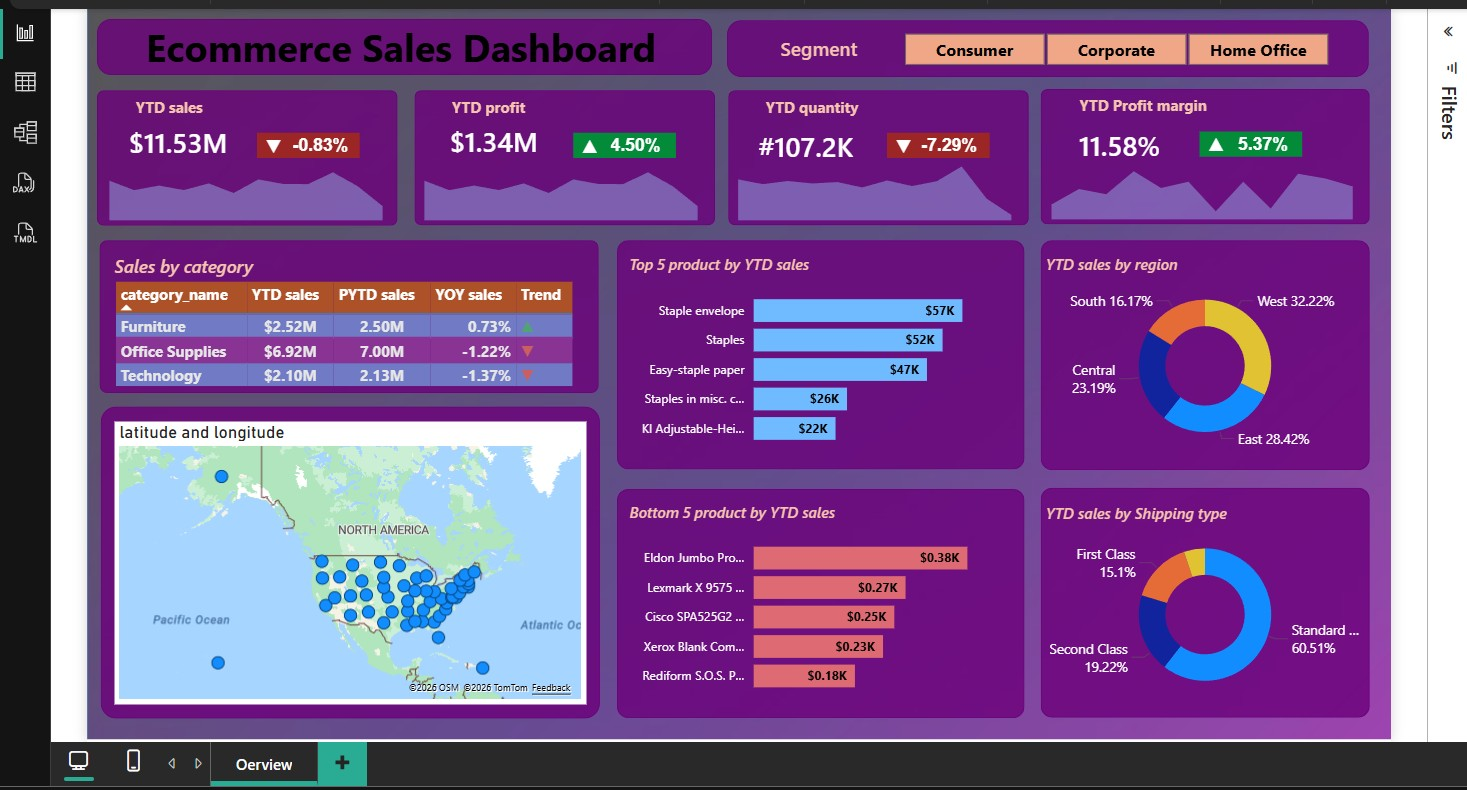

The page's visual inventory and layout, read from the dashboard file:
{"tool":"powerbi","page":{"name":"Page 1","canvas":[1280,720],"ordinal":0},"visuals":[{"type":"shape","box":[10,10,603.8,55],"z":0},{"type":"textbox","box":[9.6,6.9,596.9,60.4],"z":1000},{"type":"shape","box":[9.6,79.6,295,133],"z":2000},{"type":"cardVisual","fields":{"Data":["ecommerce_data.YTD sales"]},"box":[10.7,99.3,157.8,59],"z":3000},{"type":"areaChart","fields":{"Y":["Sum(ecommerce_data.sales_per_order)"],"Category":["Calender.Month"]},"box":[6.9,138.6,297.8,74.1],"z":4000},{"type":"shape","box":[167,121,101,25],"z":5000},{"type":"cardVisual","fields":{"Data":["ecommerce_data.Sales icon"]},"box":[157.5,112.5,52.5,40],"z":6000},{"type":"cardVisual","fields":{"Data":["ecommerce_data.YOY sales"]},"box":[183.8,110,90,45],"z":7000},{"type":"textbox","box":[43,81,94,35],"z":8000},{"type":"shape","box":[321.2,80,295,132.5],"z":9000},{"type":"cardVisual","fields":{"Data":["ecommerce_data.YTD profit"]},"box":[321.2,98.8,156.2,60],"z":10000},{"type":"areaChart","fields":{"Category":["Calender.Month"],"Y":["Sum(ecommerce_data.sales_per_order)"]},"box":[316.9,138.6,297.8,74.1],"z":11000},{"type":"shape","box":[477,121,101,25],"z":12000},{"type":"cardVisual","fields":{"Data":["ecommerce_data.Profit icon"]},"box":[467.5,112.5,52.5,40],"z":13000},{"type":"cardVisual","fields":{"Data":["ecommerce_data.YOY Profit"]},"box":[493.8,110,90,45],"z":14000},{"type":"textbox","box":[353,81,94,35],"z":15000},{"type":"shape","box":[629.3,80,295,132.5],"z":16000},{"type":"cardVisual","fields":{"Data":["ecommerce_data.YTD concatenated qty"]},"box":[628.8,102.5,155,60],"z":17000},{"type":"areaChart","fields":{"Category":["Calender.Month"],"Y":["Sum(ecommerce_data.order_quantity)"]},"box":[624.9,138.6,297.8,74.1],"z":18000},{"type":"shape","box":[785,121,101,25],"z":19000},{"type":"cardVisual","fields":{"Data":["ecommerce_data.Qty icon"]},"box":[775.5,112.5,52.5,40],"z":20000},{"type":"cardVisual","fields":{"Data":["ecommerce_data.YOY qty"]},"box":[801.8,110,90,45],"z":21000},{"type":"textbox","box":[661.2,81.2,122.5,35],"z":22000},{"type":"shape","box":[935.7,78.6,322.9,132.9],"z":23000},{"type":"cardVisual","fields":{"Data":["ecommerce_data.YTD profit margin"]},"box":[935.7,101.5,155,60],"z":24000},{"type":"areaChart","fields":{"Category":["Calender.Month"],"Y":["ecommerce_data.profit margin"]},"box":[931.4,137.1,327.1,74.3],"z":25000},{"type":"shape","box":[1092,120,101,25],"z":26000},{"type":"cardVisual","fields":{"Data":["ecommerce_data.Profit Margin Icon"]},"box":[1082.5,111.5,52.5,40],"z":27000},{"type":"cardVisual","fields":{"Data":["ecommerce_data.YOY Profit Margin"]},"box":[1108.8,109,90,45],"z":28000},{"type":"textbox","box":[968.8,80,173.8,35],"z":29000},{"type":"shape","box":[12.5,227.5,490,150],"z":30000},{"type":"tableEx","title":"Sales by category","fields":{"Values":["ecommerce_data.category_name","ecommerce_data.YTD sales","ecommerce_data.PYTD sales","ecommerce_data.YOY sales","ecommerce_data.Sales icon"]},"box":[22.5,240,471.2,137.5],"z":31000},{"type":"shape","box":[13.8,390,490,306.2],"z":32000},{"type":"azureMap","fields":{"Y":["us_state_long_lat_codes.latitude"],"X":["us_state_long_lat_codes.longitude"]},"box":[27.5,405,462.5,277.5],"z":33000},{"type":"shape","box":[520,227.5,400,225],"z":34000},{"type":"shape","box":[520,471.2,400,225],"z":35000},{"type":"barChart","title":"Top 5 product by YTD sales","fields":{"Category":["ecommerce_data.product_name"],"Y":["ecommerce_data.YTD sales"]},"box":[527.1,240,382.9,200],"z":36000},{"type":"barChart","title":"Bottom 5 product by YTD sales","fields":{"Category":["ecommerce_data.product_name"],"Y":["ecommerce_data.YTD sales"]},"box":[527.1,482.9,382.9,200],"z":37000},{"type":"shape","box":[935.7,227.1,322.9,225.7],"z":38000},{"type":"donutChart","title":"YTD sales by region","fields":{"Category":["ecommerce_data.customer_region"],"Y":["ecommerce_data.YTD sales"]},"box":[935.7,240,322.9,200],"z":39000},{"type":"shape","box":[935.7,470,322.9,225.7],"z":40000},{"type":"donutChart","title":"YTD sales by Shipping type","fields":{"Y":["ecommerce_data.YTD sales"],"Category":["ecommerce_data.shipping_type"]},"box":[935.7,484.3,322.9,200],"z":41000},{"type":"shape","box":[628.6,11.4,630,55.7],"z":42000},{"type":"slicer","fields":{"Values":["ecommerce_data.customer_segment"]},"box":[777.1,17.1,465.7,44.3],"z":43000},{"type":"textbox","box":[635.7,21.4,165.7,40],"z":44000}]}

Visuals, with their boxes on the page's 1280x720 design canvas (x1, y1, x2, y2). These are canvas units, not pixel positions in the 1467x790 screenshot, which may show the page scaled, cropped or inside an application window:
shape: bbox=[10, 10, 614, 65]
textbox: bbox=[10, 7, 606, 67]
shape: bbox=[10, 80, 305, 213]
cardVisual - ecommerce_data.YTD sales: bbox=[11, 99, 168, 158]
areaChart - Sum(ecommerce_data.sales_per_order) x Calender.Month: bbox=[7, 139, 305, 213]
shape: bbox=[167, 121, 268, 146]
cardVisual - ecommerce_data.Sales icon: bbox=[158, 112, 210, 152]
cardVisual - ecommerce_data.YOY sales: bbox=[184, 110, 274, 155]
textbox: bbox=[43, 81, 137, 116]
shape: bbox=[321, 80, 616, 212]
cardVisual - ecommerce_data.YTD profit: bbox=[321, 99, 477, 159]
areaChart - Calender.Month x Sum(ecommerce_data.sales_per_order): bbox=[317, 139, 615, 213]
shape: bbox=[477, 121, 578, 146]
cardVisual - ecommerce_data.Profit icon: bbox=[468, 112, 520, 152]
cardVisual - ecommerce_data.YOY Profit: bbox=[494, 110, 584, 155]
textbox: bbox=[353, 81, 447, 116]
shape: bbox=[629, 80, 924, 212]
cardVisual - ecommerce_data.YTD concatenated qty: bbox=[629, 102, 784, 162]
areaChart - Calender.Month x Sum(ecommerce_data.order_quantity): bbox=[625, 139, 923, 213]
shape: bbox=[785, 121, 886, 146]
cardVisual - ecommerce_data.Qty icon: bbox=[776, 112, 828, 152]
cardVisual - ecommerce_data.YOY qty: bbox=[802, 110, 892, 155]
textbox: bbox=[661, 81, 784, 116]
shape: bbox=[936, 79, 1259, 212]
cardVisual - ecommerce_data.YTD profit margin: bbox=[936, 102, 1091, 162]
areaChart - Calender.Month x ecommerce_data.profit margin: bbox=[931, 137, 1258, 211]
shape: bbox=[1092, 120, 1193, 145]
cardVisual - ecommerce_data.Profit Margin Icon: bbox=[1082, 112, 1135, 152]
cardVisual - ecommerce_data.YOY Profit Margin: bbox=[1109, 109, 1199, 154]
textbox: bbox=[969, 80, 1143, 115]
shape: bbox=[12, 228, 502, 378]
"Sales by category" tableEx: bbox=[22, 240, 494, 378]
shape: bbox=[14, 390, 504, 696]
azureMap - us_state_long_lat_codes.latitude x us_state_long_lat_codes.longitude: bbox=[28, 405, 490, 682]
shape: bbox=[520, 228, 920, 452]
shape: bbox=[520, 471, 920, 696]
"Top 5 product by YTD sales" barChart: bbox=[527, 240, 910, 440]
"Bottom 5 product by YTD sales" barChart: bbox=[527, 483, 910, 683]
shape: bbox=[936, 227, 1259, 453]
"YTD sales by region" donutChart: bbox=[936, 240, 1259, 440]
shape: bbox=[936, 470, 1259, 696]
"YTD sales by Shipping type" donutChart: bbox=[936, 484, 1259, 684]
shape: bbox=[629, 11, 1259, 67]
slicer - ecommerce_data.customer_segment: bbox=[777, 17, 1243, 61]
textbox: bbox=[636, 21, 801, 61]
